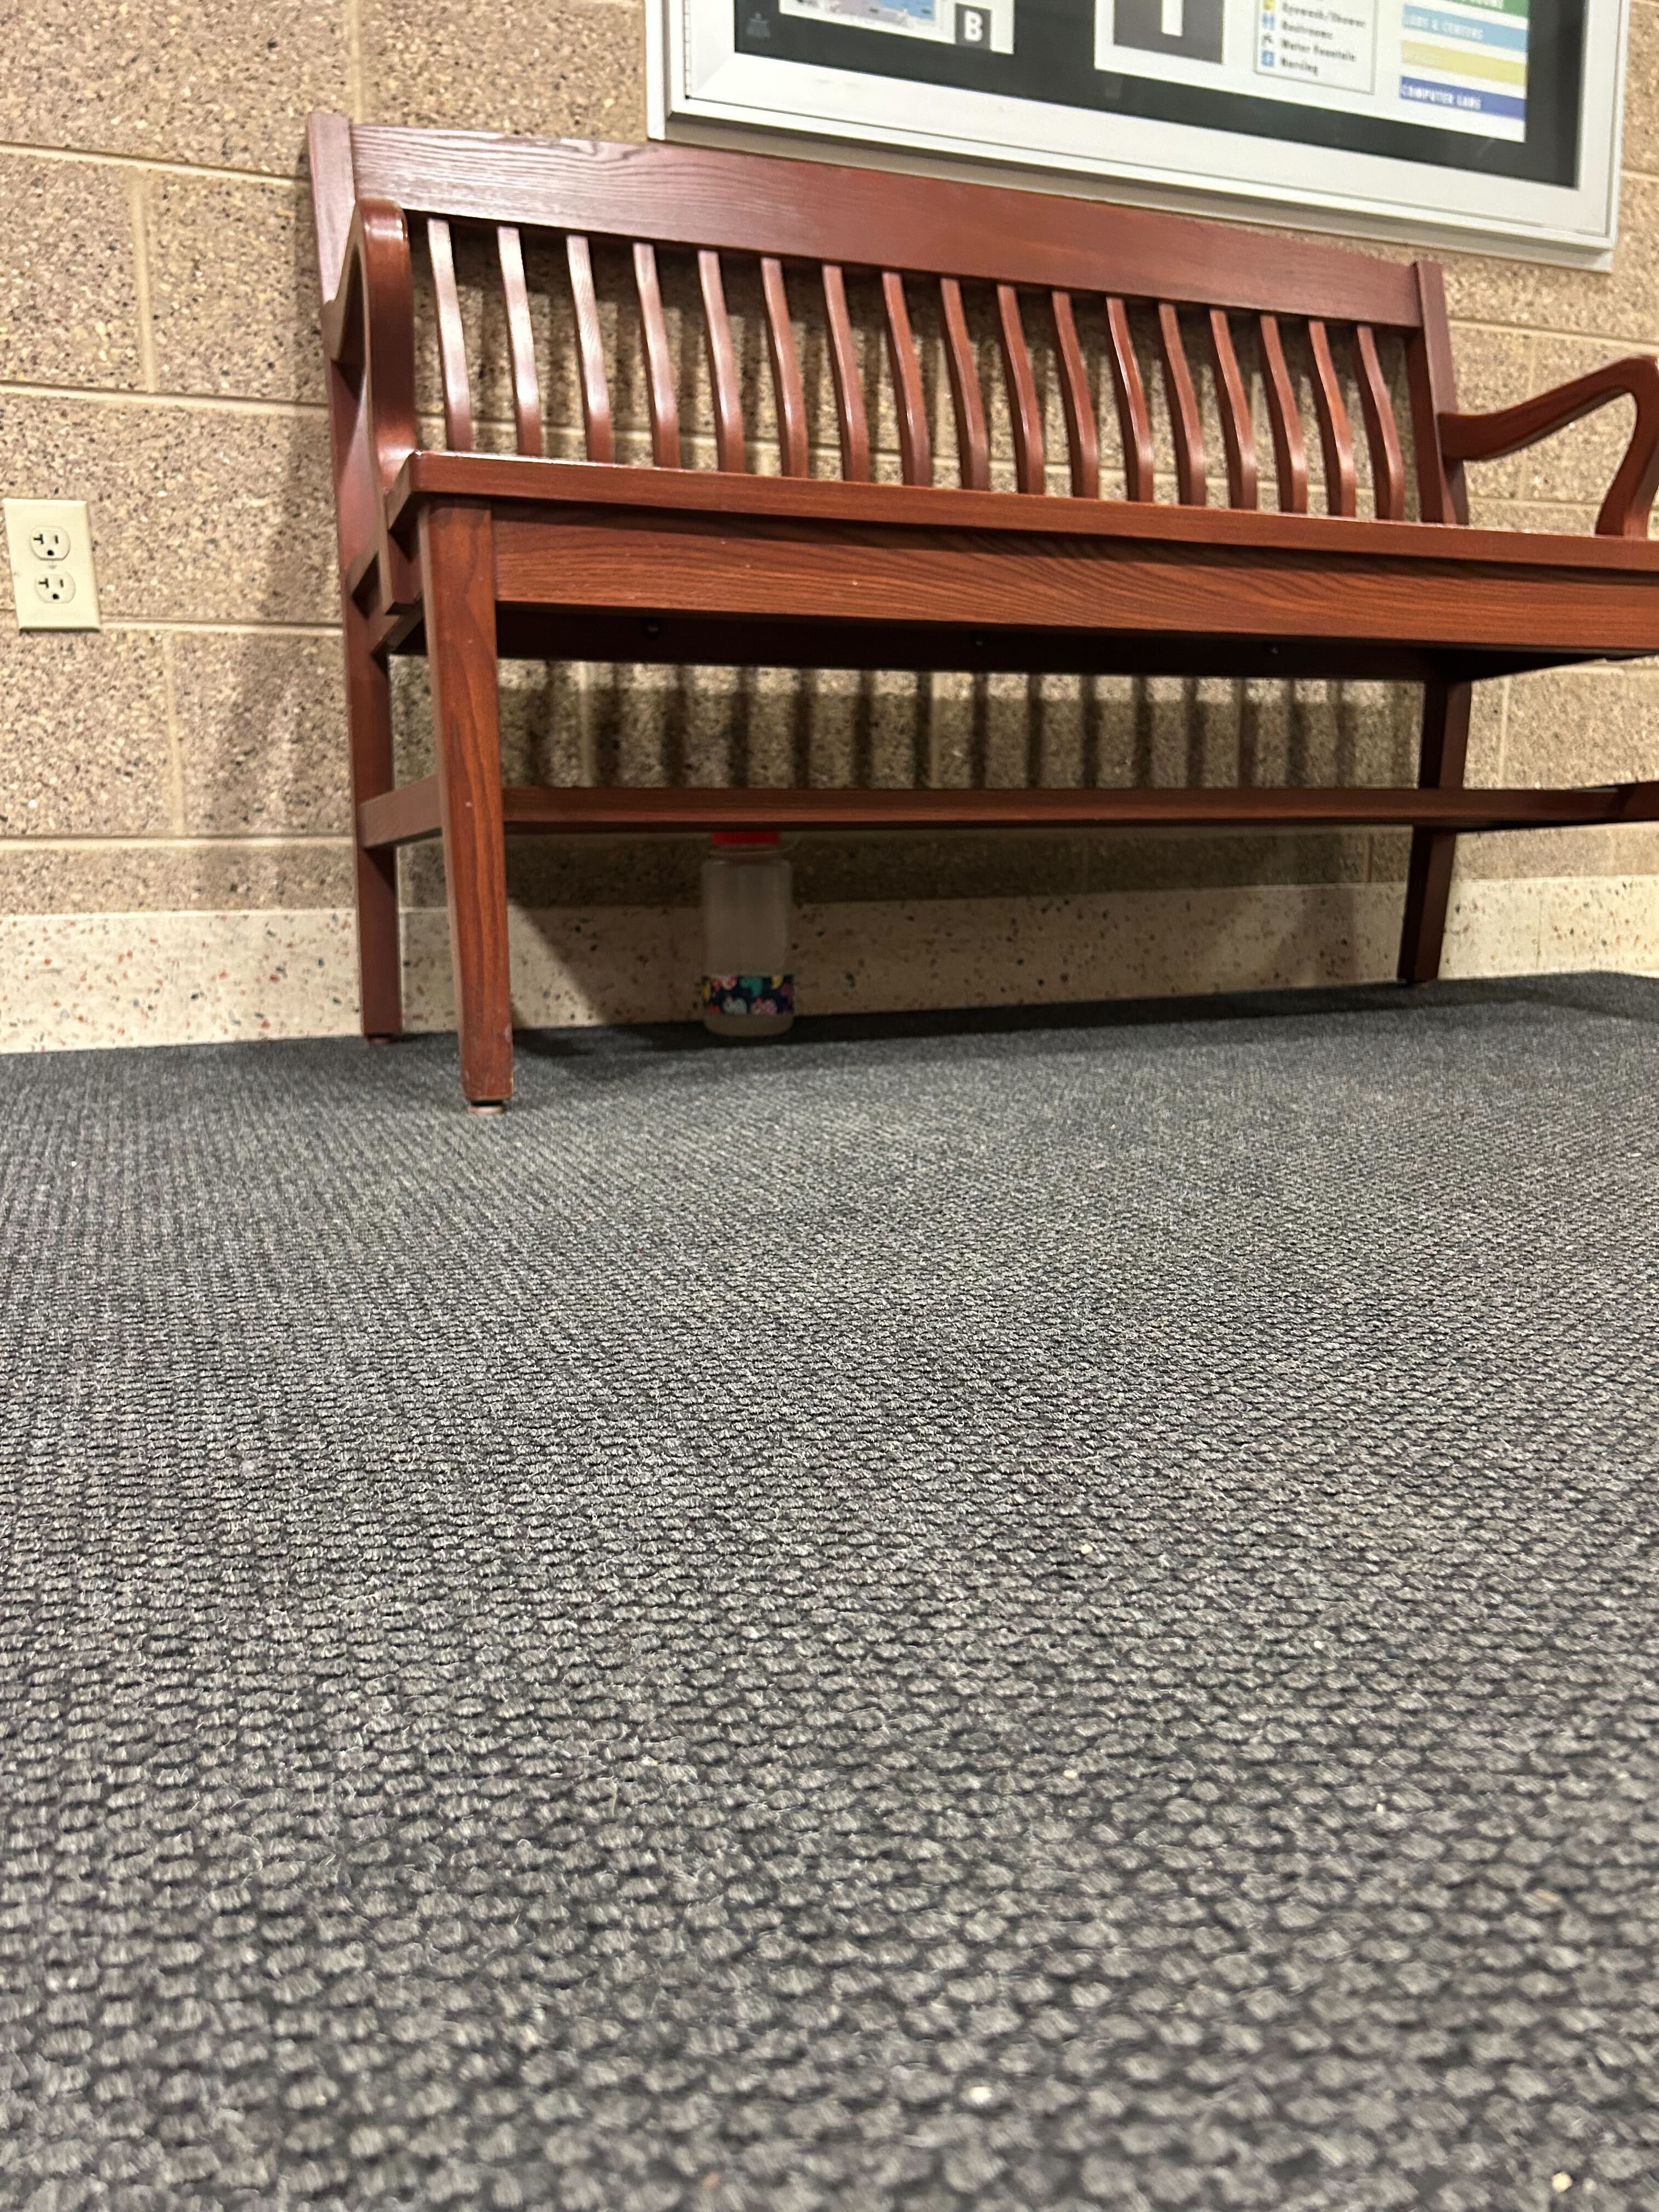bottle: (694, 813, 796, 1049)
